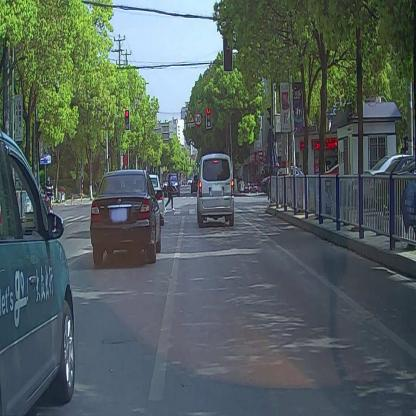Red Light: (206, 104, 212, 129), (125, 108, 129, 131)
Speed Limit 30: (195, 111, 202, 126)
